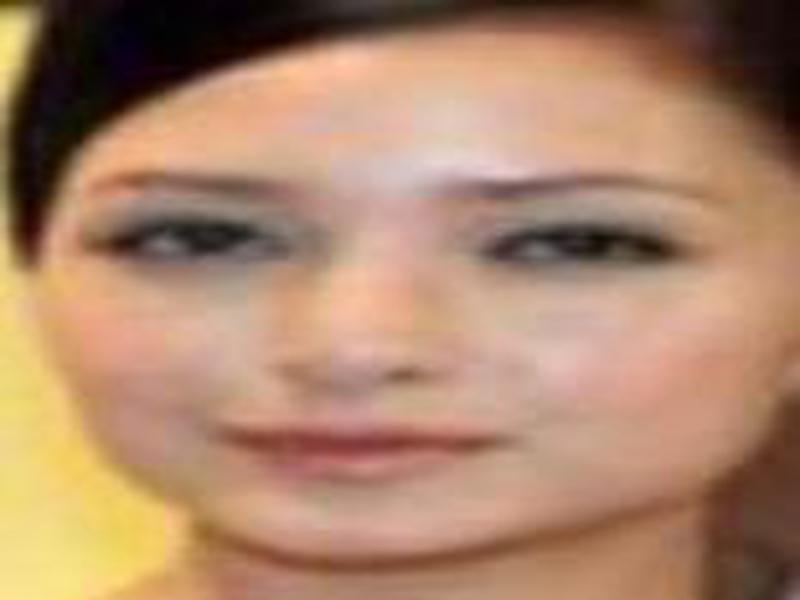without_mask: (37, 120, 787, 564)
